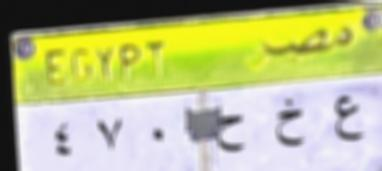0: (146, 122, 172, 151)
4: (42, 119, 82, 161)
7: (93, 115, 126, 154)
7aa: (208, 108, 249, 157)
ain: (326, 93, 368, 147)
khaa: (266, 92, 308, 154)
